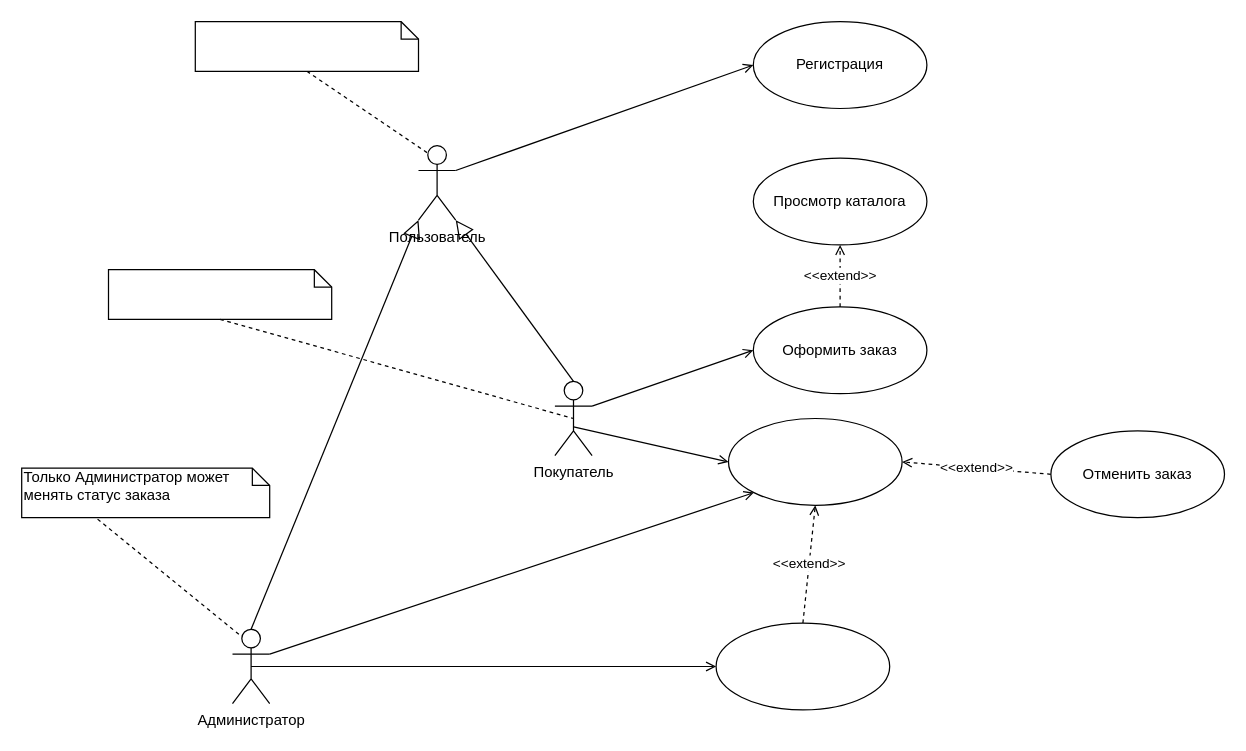
This 1246x751 diagram has some shape labels left out. Each missing label, with the box of its shape:
Зарегистрированный пользователь: (107, 268, 332, 319)
Изменить статус заказа: (715, 622, 890, 710)
Любой пользователь сети: (194, 20, 418, 71)
Просматривать заказы: (727, 417, 902, 505)
